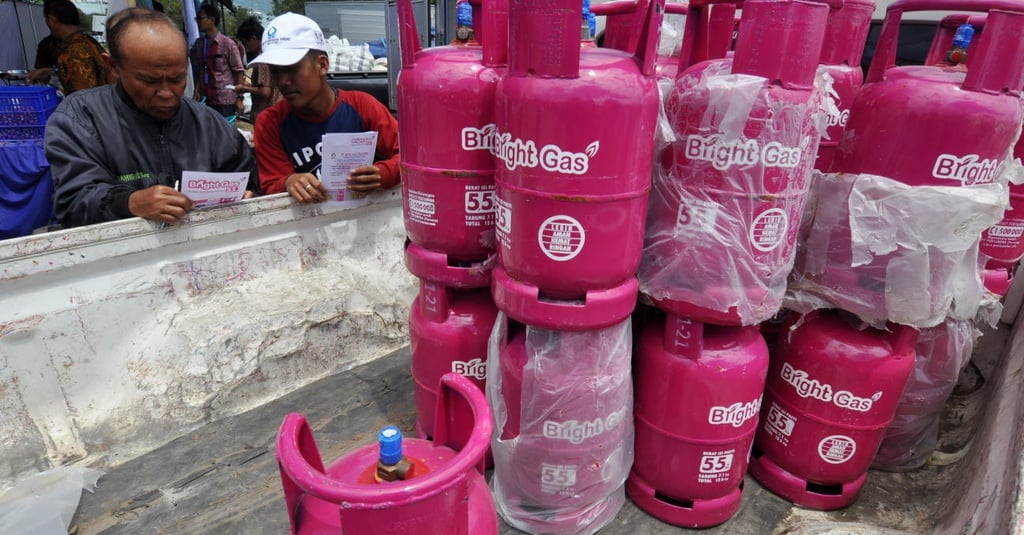bright_gas: (836, 8, 1022, 316), (657, 1, 826, 318), (497, 2, 662, 325), (276, 372, 498, 535), (767, 306, 917, 513), (396, 1, 505, 284), (492, 315, 631, 533), (628, 320, 768, 535), (405, 282, 497, 454)
